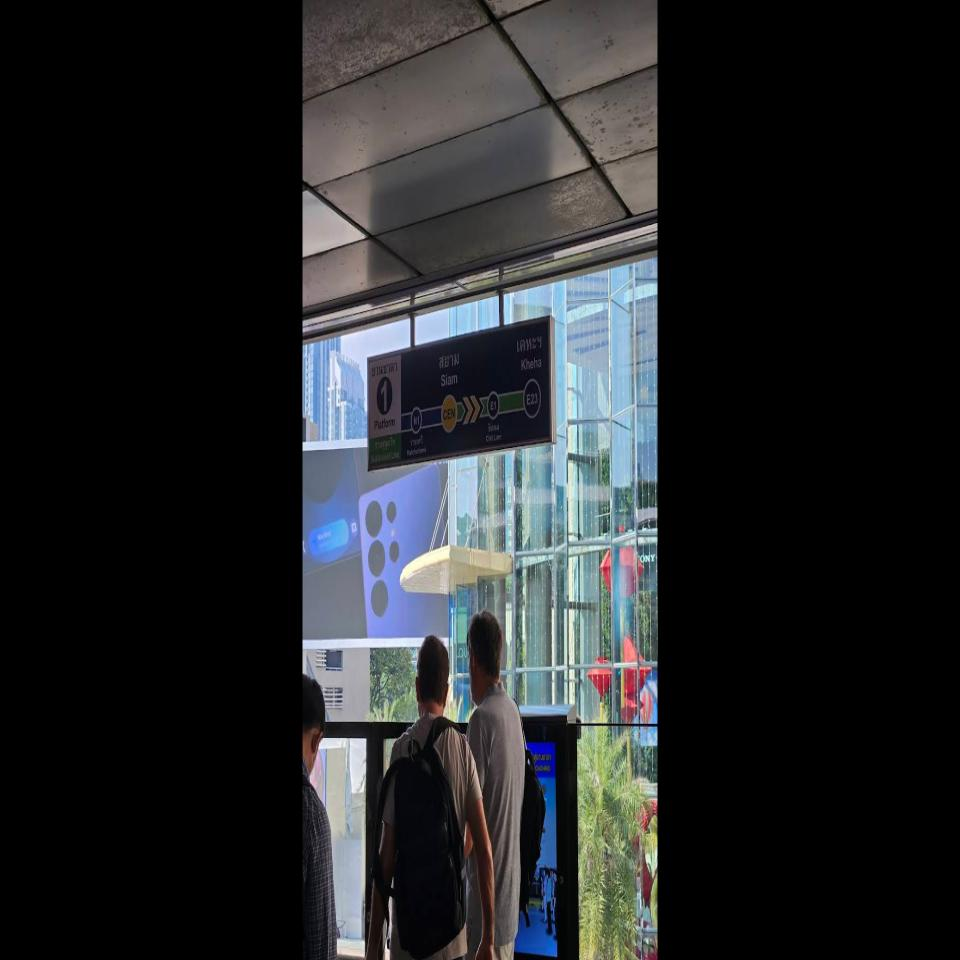signage: (411, 352, 500, 433)
